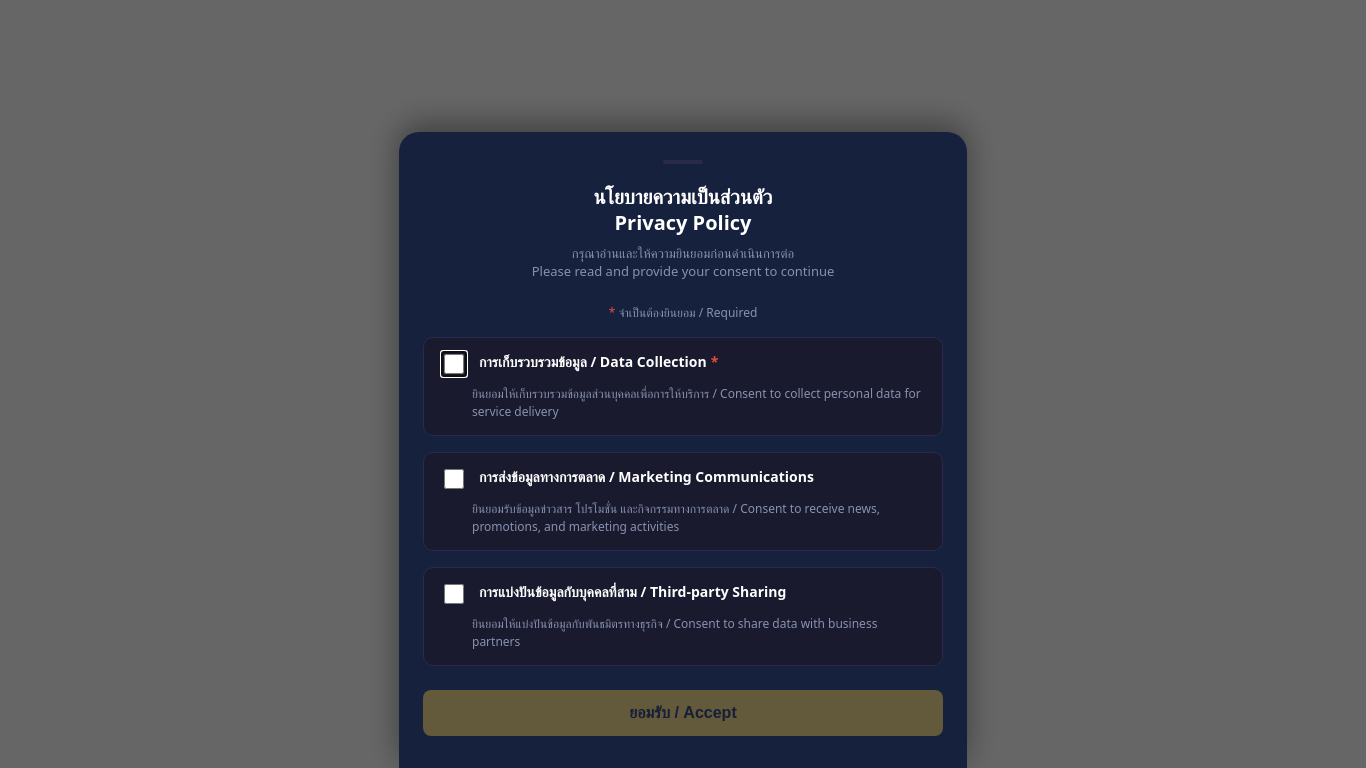
Scenario: PdpaConsent › accept button is disabled until required items are checked
Expected: the button "ยอมรับ / Accept" is disabled, 423,690 -> 943,736
# Check the required data_collection checkbox (first one)
Click the checkbox labelled "การเก็บรวบรวมข้อมูล / Data Collection*": (454, 364) 444,354 -> 464,374
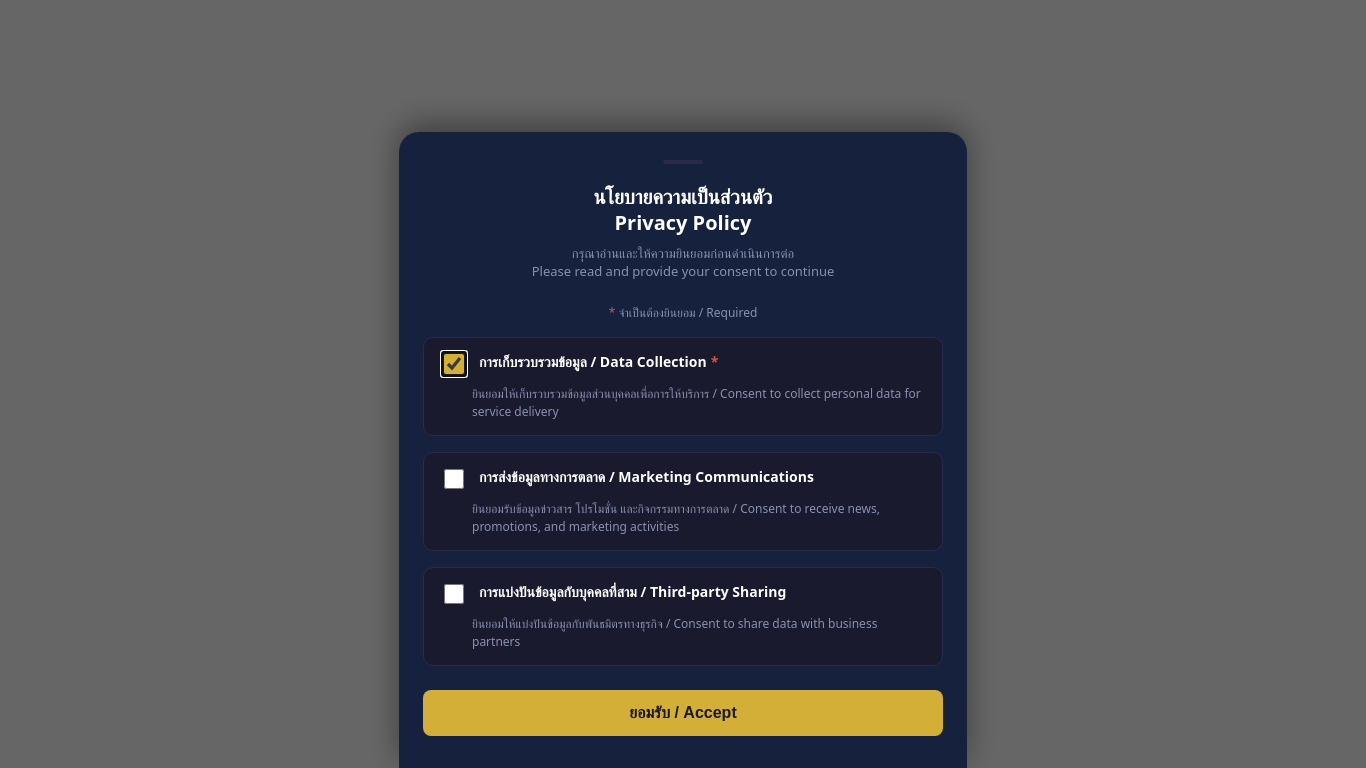
Expected: the button "ยอมรับ / Accept" is enabled, 423,690 -> 943,736
